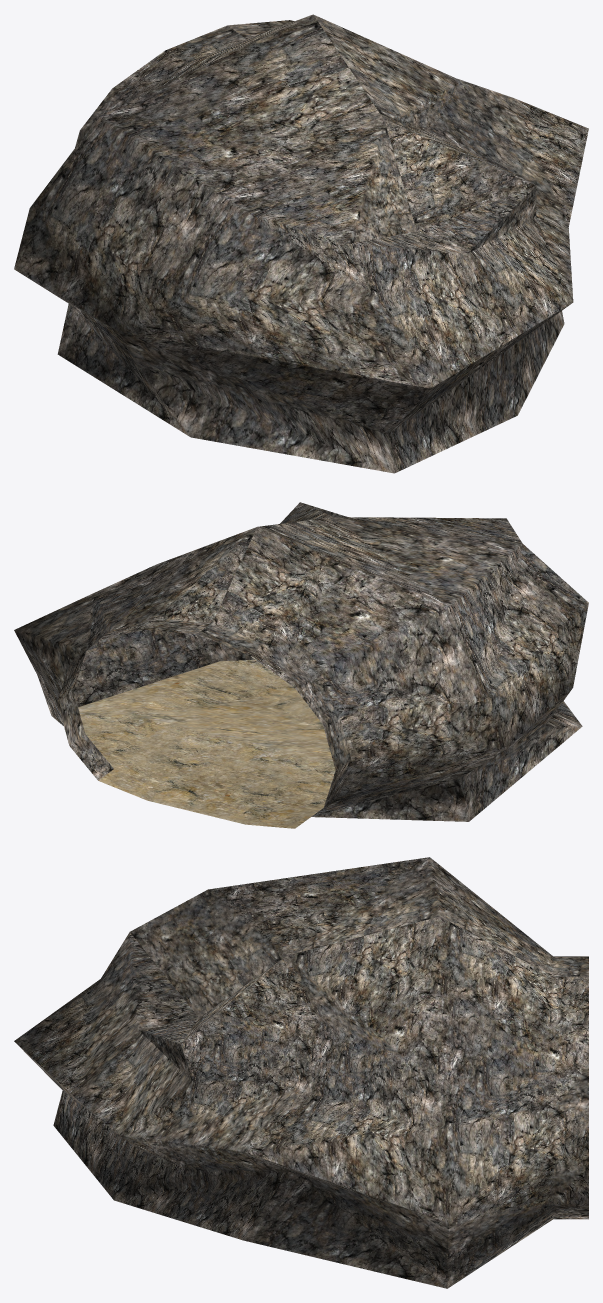
The model's file is pir_m_are_cav_deadend100.fbx.
The picture shows the model from 3 angles, top to bottom: view 1: azimuth 30°, elevation 25°; view 2: azimuth 150°, elevation 25°; view 3: azimuth 270°, elevation 25°; orthographic projection. The views are drawn at different scales.
Parts seen in each view (by area): view 1: standardDeadEnd_wall; view 2: standardDeadEnd_wall, standardDeadEnd_floor; view 3: standardDeadEnd_wall.
Boxes of the visible parts, x1=… form: standardDeadEnd_wall: x1=14, y1=14, x2=588, y2=473; standardDeadEnd_wall: x1=14, y1=502, x2=588, y2=821; standardDeadEnd_floor: x1=78, y1=659, x2=335, y2=828; standardDeadEnd_wall: x1=14, y1=857, x2=588, y2=1288.
Size of the model in its own units: 8824 by 4152 by 8052.
Materials: 2 (2 with a texture image).
